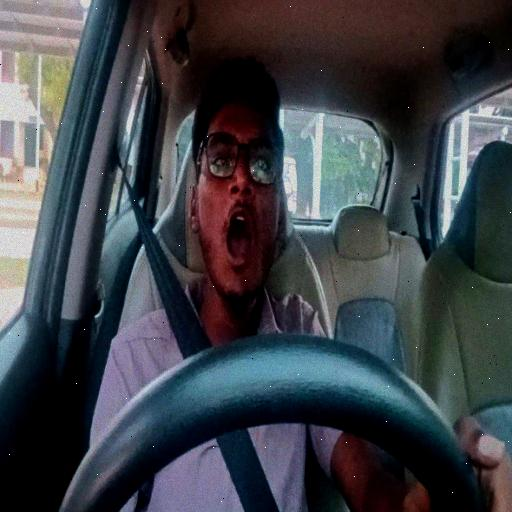yawns: (190, 64, 281, 304)
